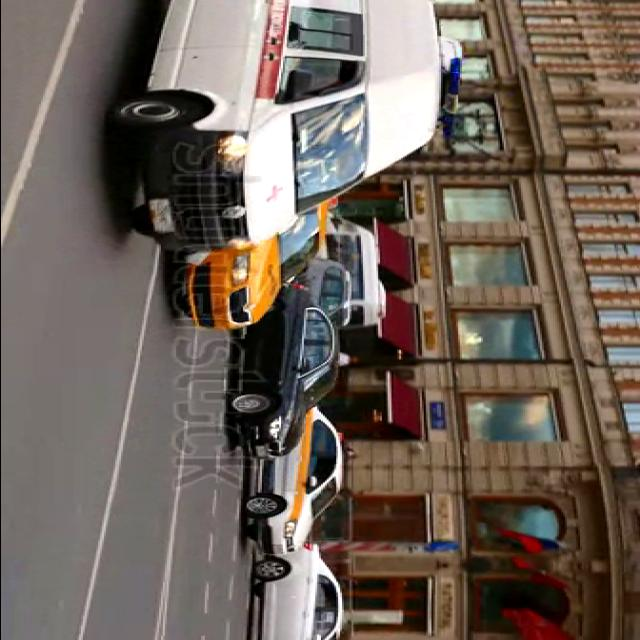ambulance: (103, 1, 463, 255)
